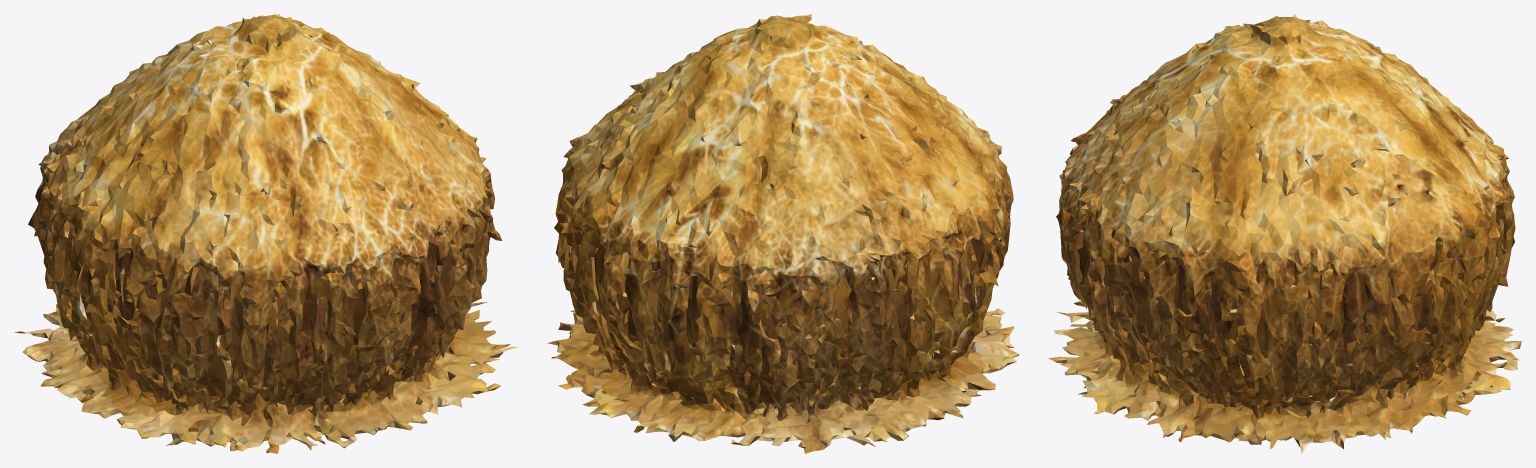
The model's file is mdl_haystack_001.glb.
3 renders of one model, left to right at view 1: azimuth 30°, elevation 25°; view 2: azimuth 150°, elevation 25°; view 3: azimuth 270°, elevation 25°, orthographic.
Visible parts, largest first — view 1: tmpm6kdbehf.ply; view 2: tmpm6kdbehf.ply; view 3: tmpm6kdbehf.ply.
Part boxes in pixels (bbox=[...]): tmpm6kdbehf.ply: bbox=[15, 14, 518, 453]; tmpm6kdbehf.ply: bbox=[547, 14, 1019, 453]; tmpm6kdbehf.ply: bbox=[1048, 14, 1521, 453].
Size of the model in its own units: 0.9466 by 0.7429 by 0.9392.
1 material, 1 textured.
